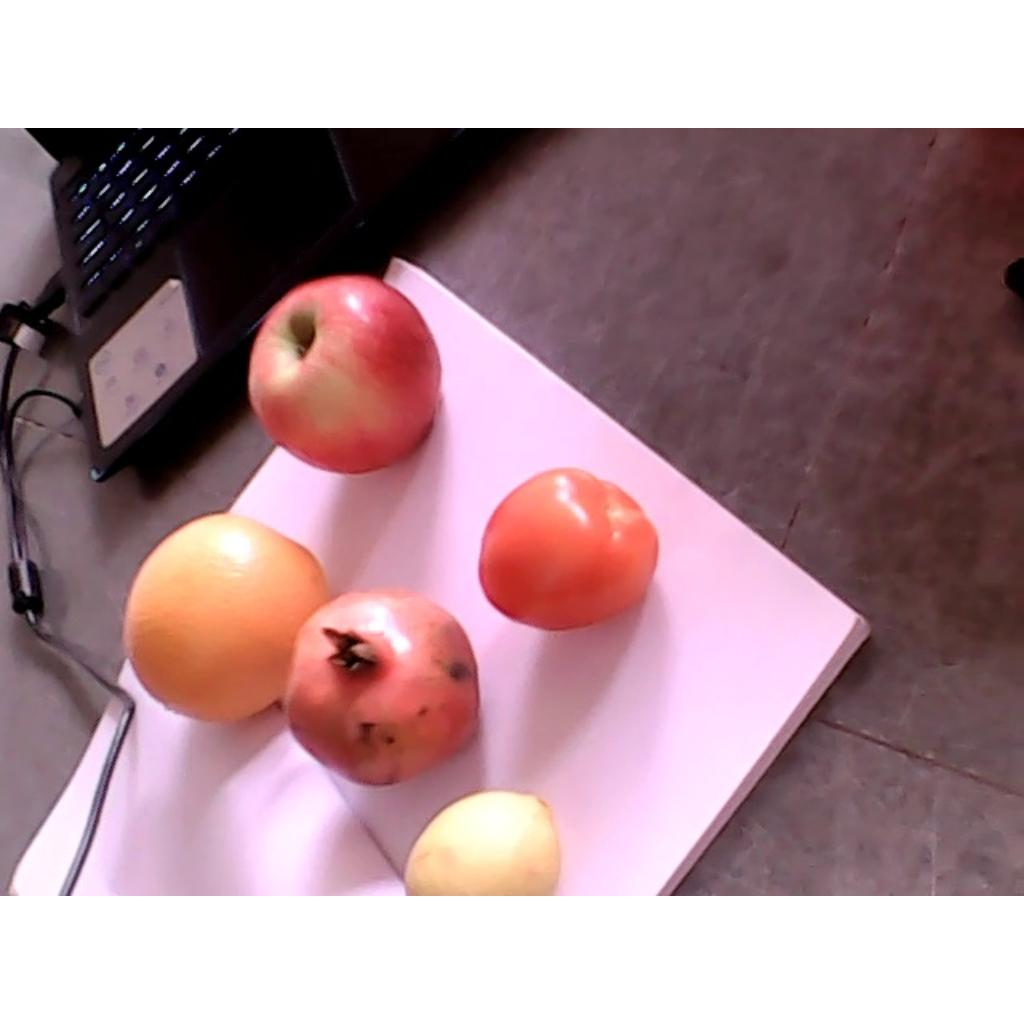apple: (248, 276, 442, 472)
lemon: (404, 791, 562, 894)
orange: (123, 512, 332, 722)
pomegranate: (283, 585, 479, 788)
tomato: (477, 467, 659, 629)
